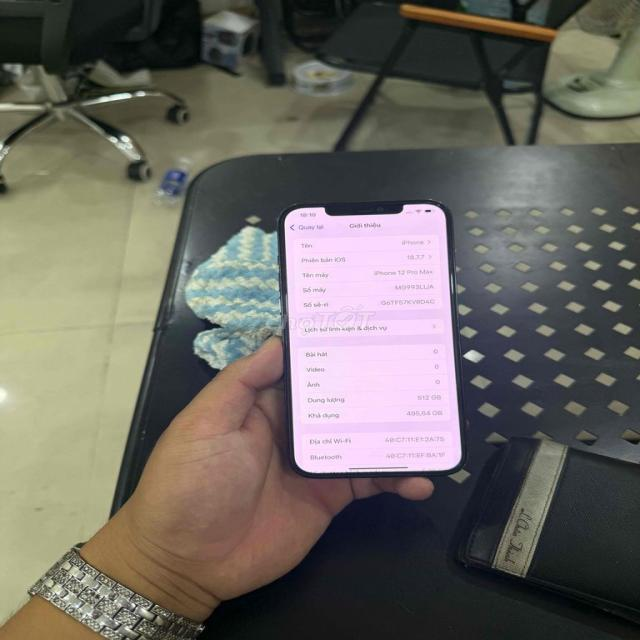gen_12_13: (275, 193, 467, 480)
